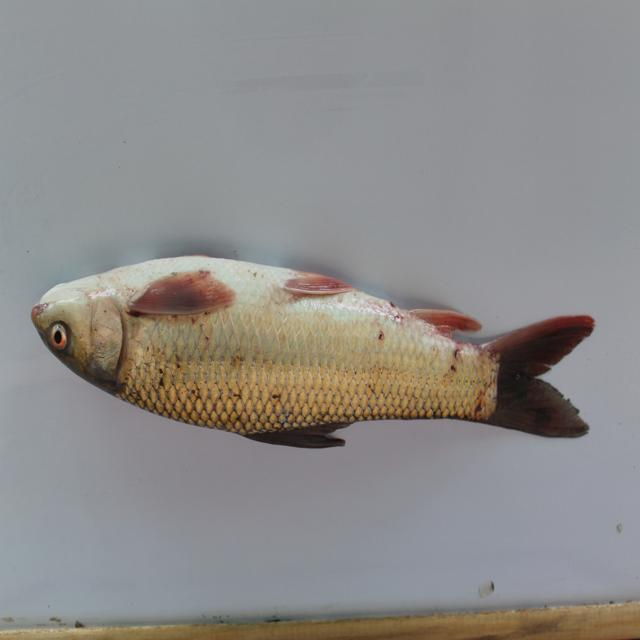Mori: (25, 243, 619, 470)
